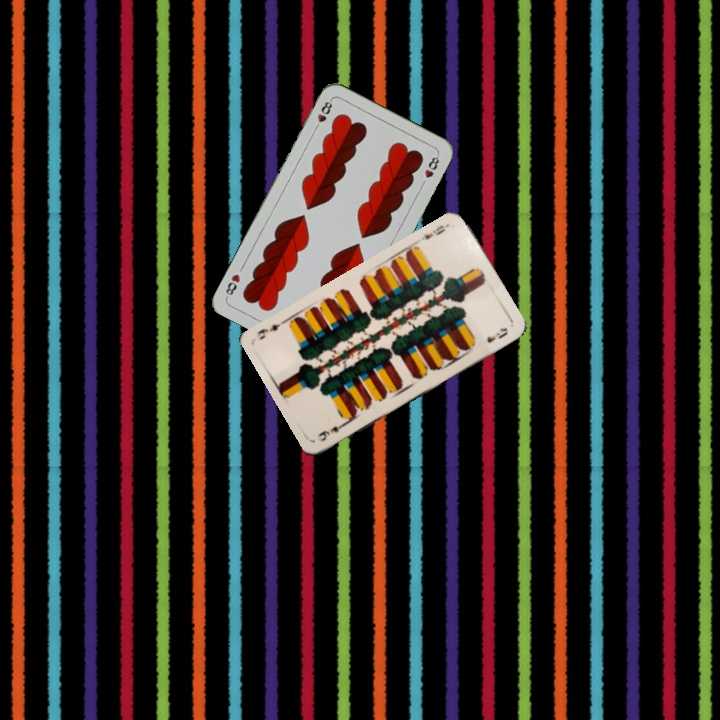E9: (314, 417, 350, 444), (417, 221, 448, 243)
H8: (310, 96, 335, 134)
